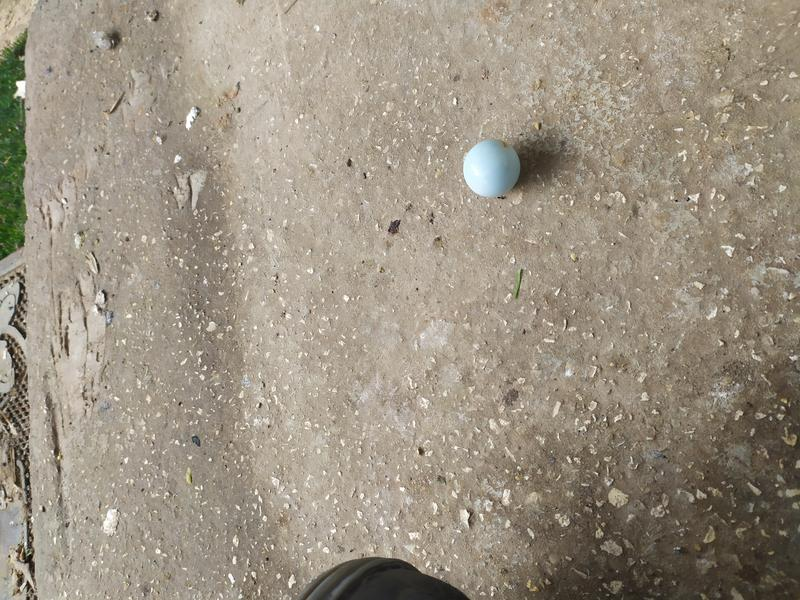Warning: (461, 137, 523, 200)
